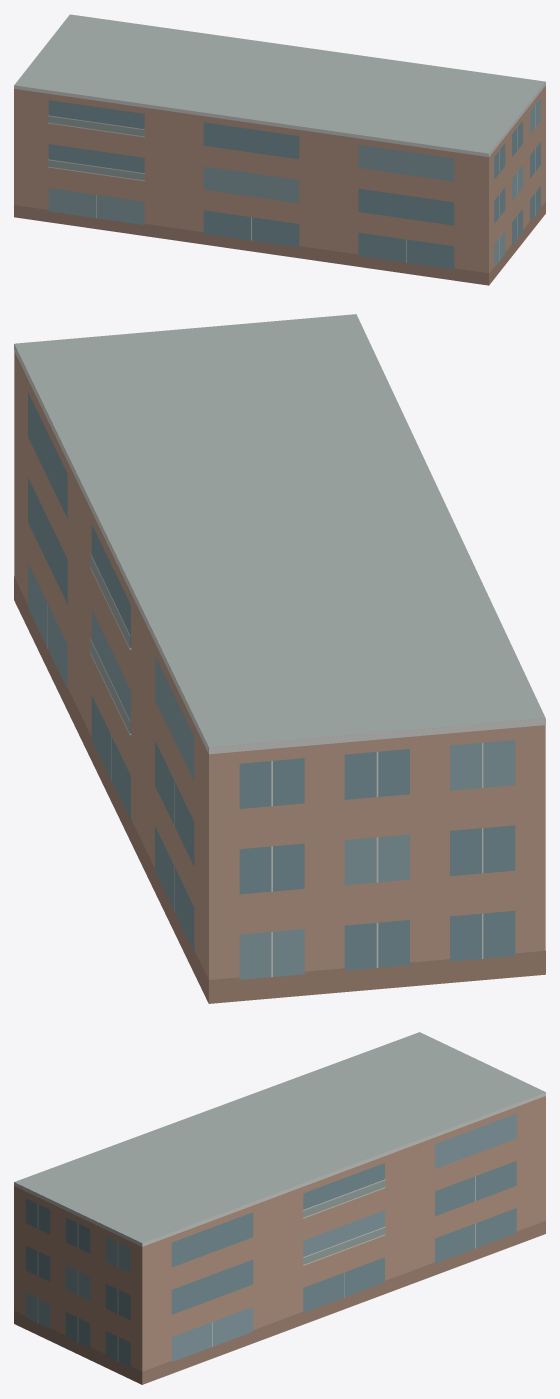
File: survey-upis-32737719.glb
3 renders of one model, top to bottom at view 1: azimuth 30°, elevation 25°; view 2: azimuth 150°, elevation 25°; view 3: azimuth 270°, elevation 25°, orthographic. The views are drawn at different scales.
Visible parts, largest first — view 1: survey-upis-32737719.tmp; view 2: survey-upis-32737719.tmp; view 3: survey-upis-32737719.tmp.
Boxes of the visible parts, x1,y1,x2,y2 form: survey-upis-32737719.tmp: [14, 14, 545, 285]; survey-upis-32737719.tmp: [14, 314, 545, 1003]; survey-upis-32737719.tmp: [14, 1032, 545, 1384].
Size of the model in its own units: 29.24 by 9.15 by 31.12.
